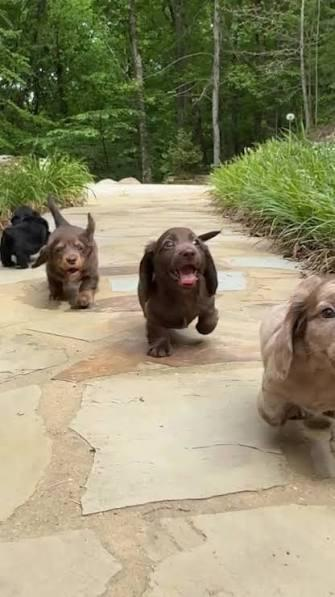puppy-dog: (257, 272, 335, 475), (135, 225, 221, 358), (28, 196, 102, 309), (1, 203, 49, 269)
